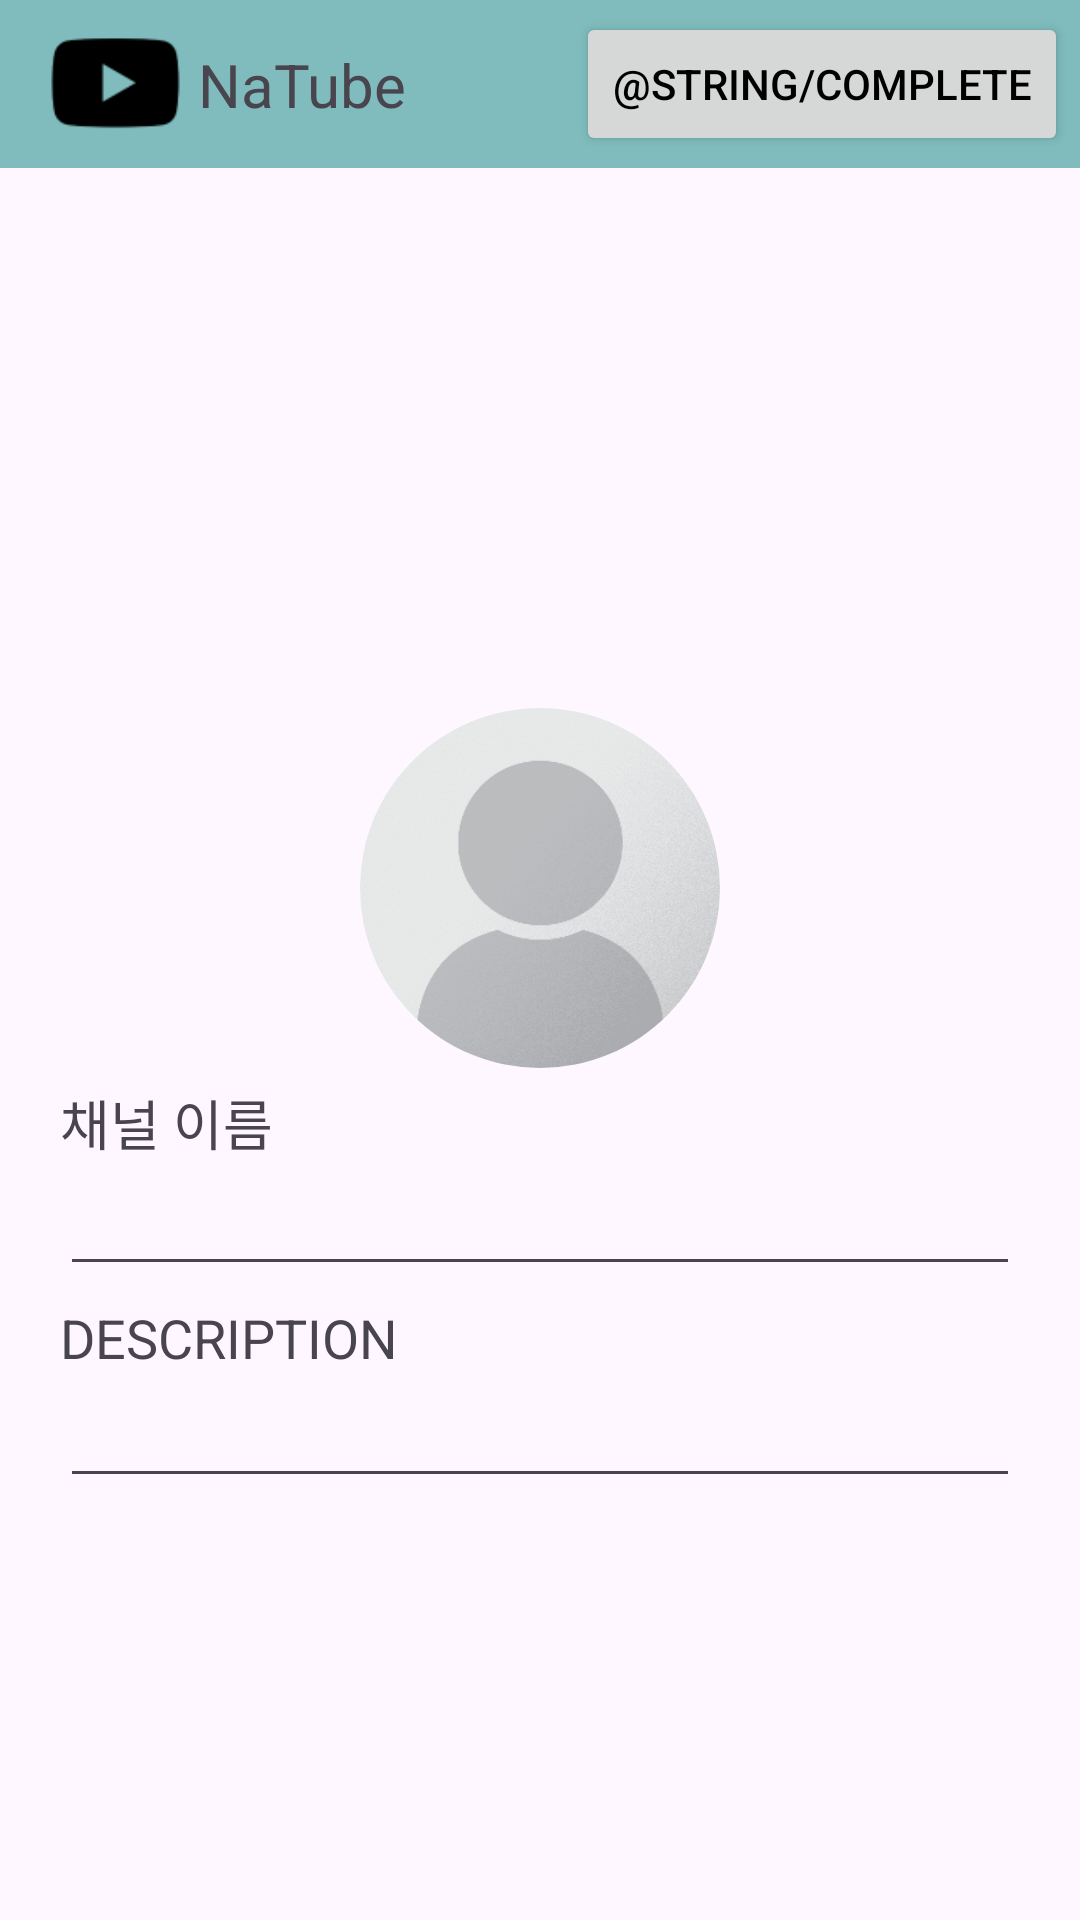

Locate icon controls on the screen. Image size 1080 × 1920, boxes as (x1, y1, x2, y2).
empty profile picture: (363, 716, 720, 1068)
